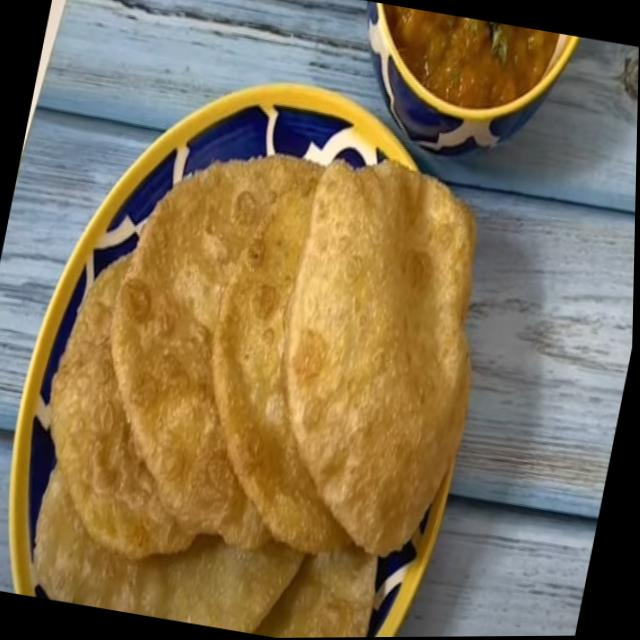CURRY: (378, 3, 563, 114)
POORI: (31, 155, 480, 638)
